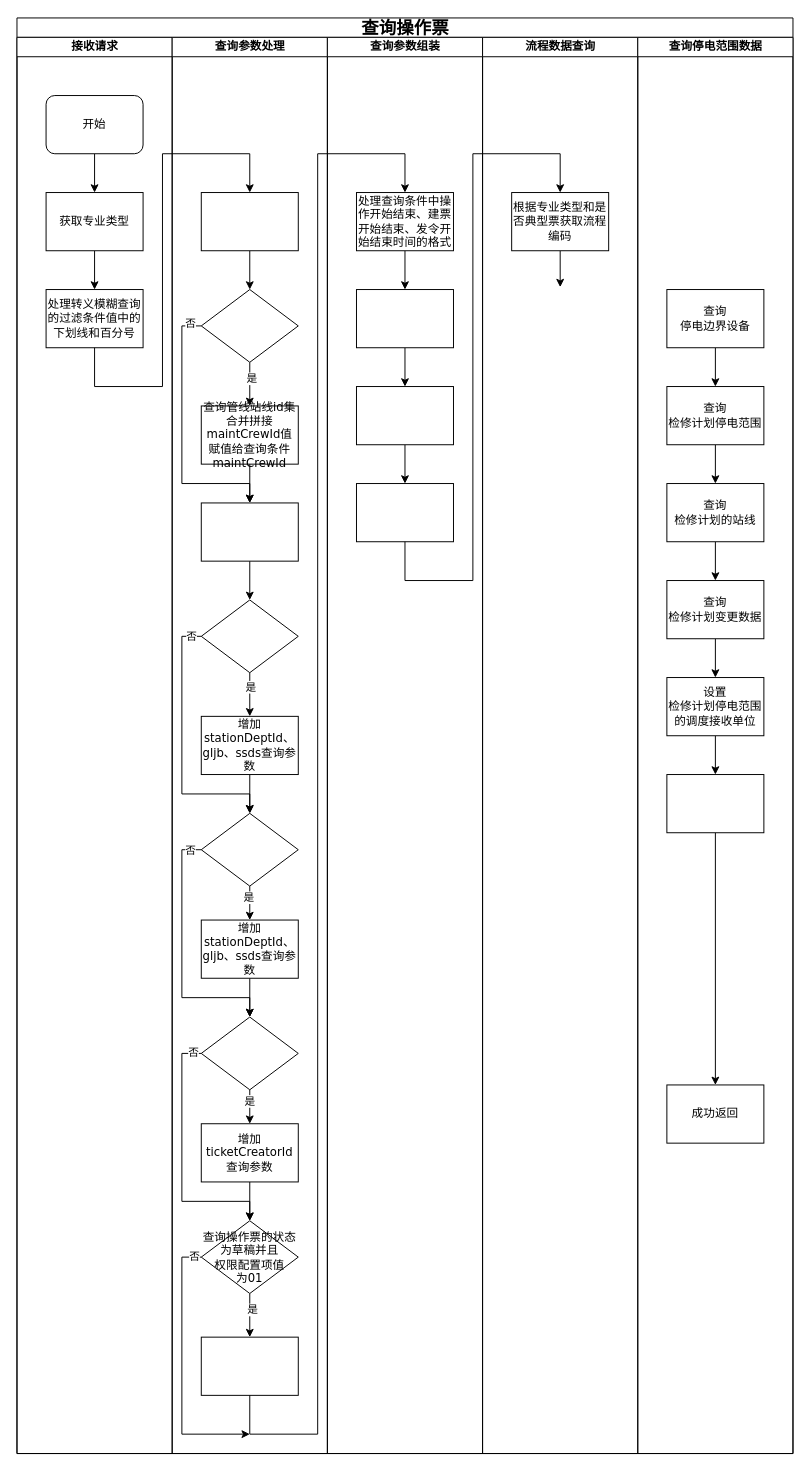
The diagram is 810 pixels wide and 1471 high, and some of its shapes have lost their labels. Each missing label, with the centre of its shape:
为不同过滤字段设置比较符: the point at 404,512
增加 ticketCreaterId查询参数 移除maintCrewId查询参数: the point at 249,1365
处理补充 检修计划对象字段: the point at 715,803
如果查询条件包含 maintCrewId: the point at 249,325
是否查询典型票: the point at 249,636
权限配置项值 为01: the point at 249,1053
权限配置项值 为02: the point at 249,849
查询权限配置: the point at 249,531
查询的排序字段 处理: the point at 404,318
组装查询字段为内部的过滤条件对象: the point at 404,415
获取用户信息: the point at 249,221
